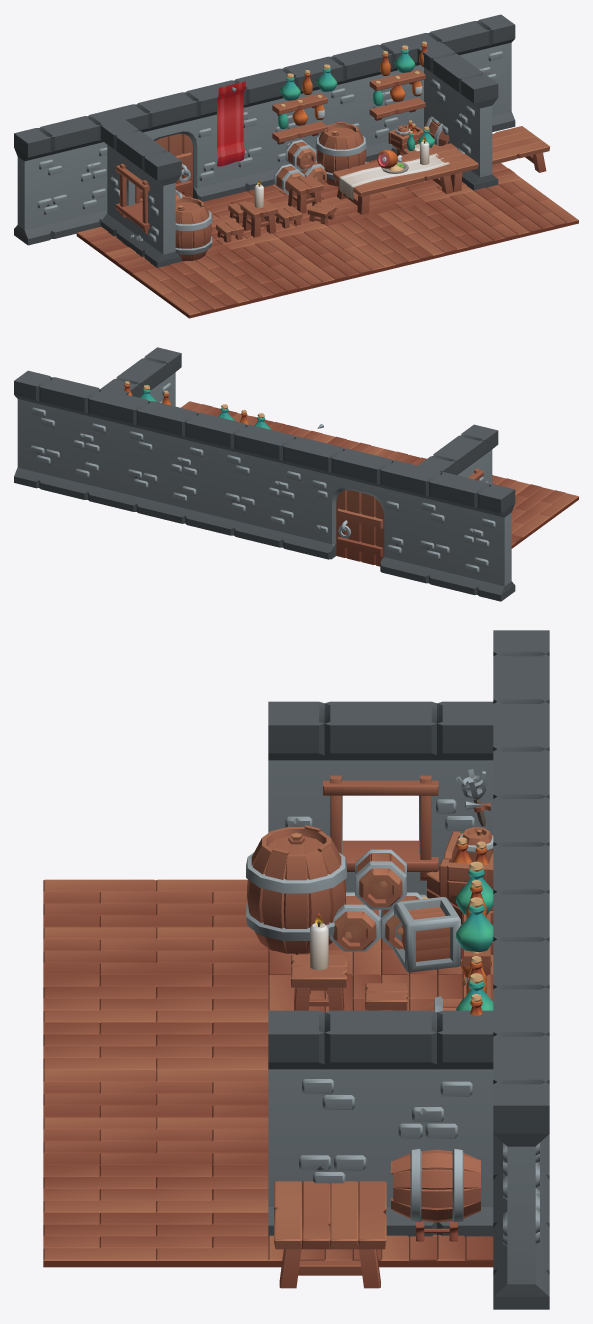
Rendered from inn.glb.
The picture shows the model from 3 angles, top to bottom: view 1: azimuth 30°, elevation 25°; view 2: azimuth 150°, elevation 25°; view 3: azimuth 270°, elevation 25°; orthographic projection. The views are drawn at different scales.
Parts seen in each view (by area): view 1: static, door; view 2: static, door; view 3: static.
Part boxes in pixels (<box>): static: <box>14,14,578,318</box>; door: <box>155,134,192,197</box>; static: <box>14,347,578,601</box>; door: <box>336,490,384,566</box>; static: <box>43,630,549,1309</box>.
Bounding box in the file's own units: 20 × 4.63 × 9.
1 material, 1 textured.
